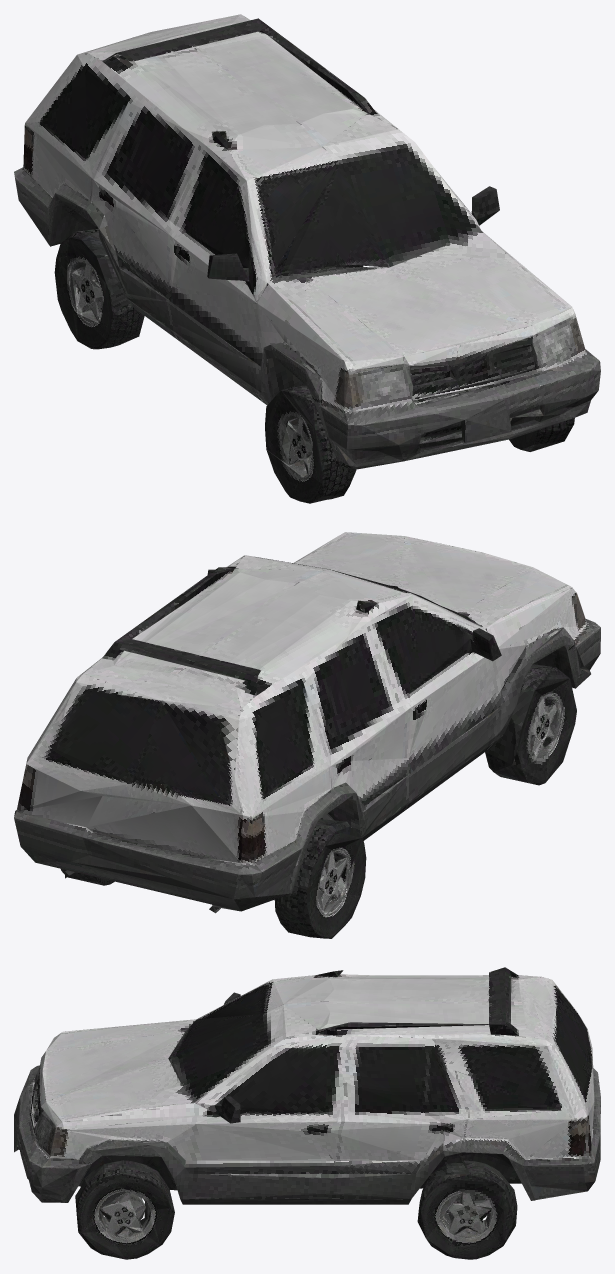
File: suv_pearl.glb
3 views of the same model, one above another, from view 1: azimuth 30°, elevation 25°; view 2: azimuth 150°, elevation 25°; view 3: azimuth 270°, elevation 25° (orthographic). The views are drawn at different scales.
Parts seen in each view (by area): view 1: car_suv; view 2: car_suv; view 3: car_suv.
Part boxes in pixels (bbox=[...]): car_suv: bbox=[14, 14, 600, 503]; car_suv: bbox=[14, 532, 600, 938]; car_suv: bbox=[14, 967, 600, 1259].
Size of the model in its own units: 2.19 by 1.91 by 4.7.
Materials: 1 (1 with a texture image).
